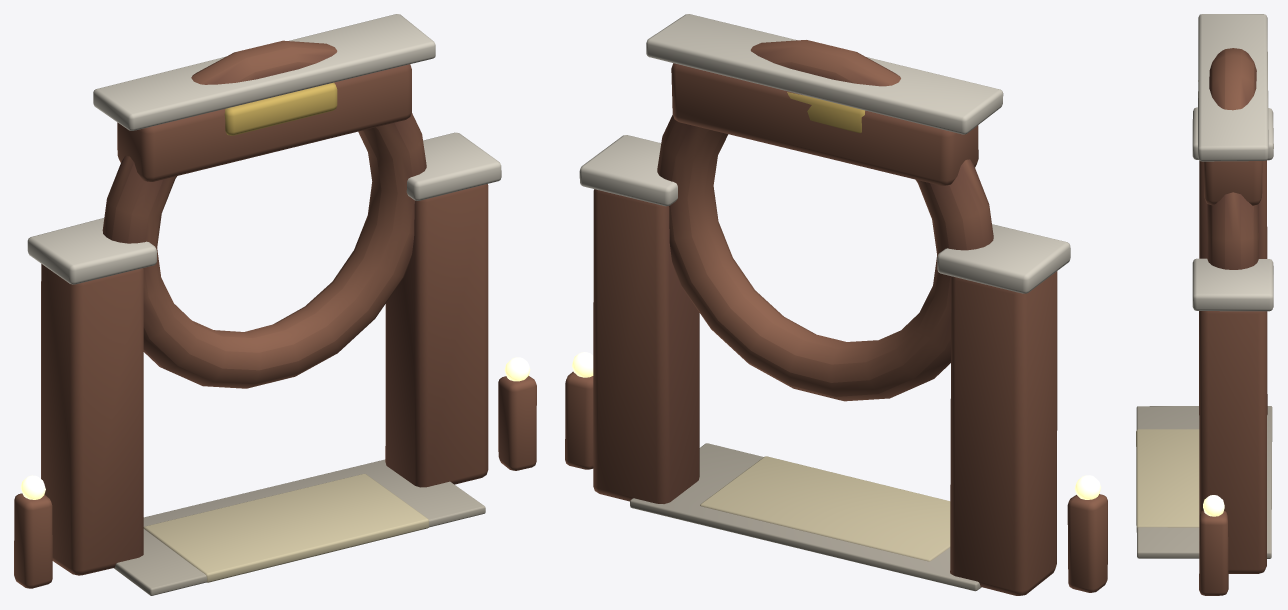
3 renders of one model, left to right at view 1: azimuth 30°, elevation 25°; view 2: azimuth 150°, elevation 25°; view 3: azimuth 270°, elevation 25°, orthographic. The views are drawn at different scales.
Visible parts, largest first — view 1: gate_5203074a; view 2: gate_5203074a; view 3: gate_5203074a.
Part boxes in pixels (left/top/right/bottom): gate_5203074a: left=14, top=14, right=536, bottom=595; gate_5203074a: left=565, top=14, right=1107, bottom=595; gate_5203074a: left=1136, top=14, right=1273, bottom=595.
Bounding box in the file's own units: 5.51 × 4.81 × 1.43.
